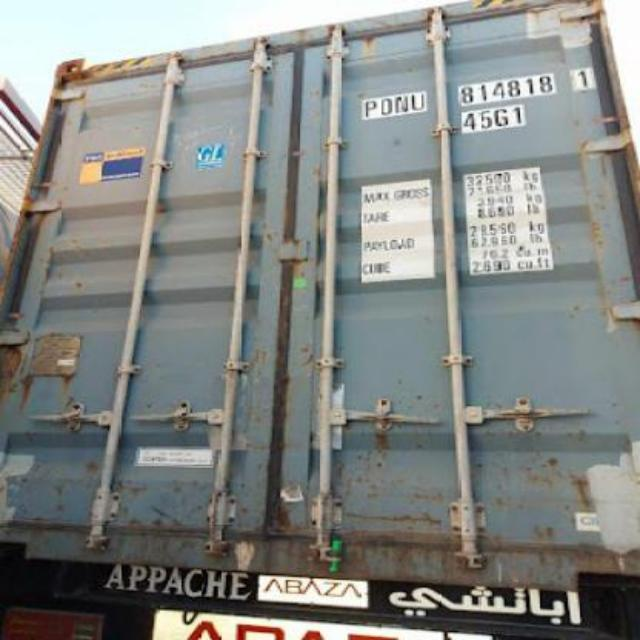1: (570, 62, 596, 92), (474, 75, 490, 108), (522, 69, 536, 99)
4: (488, 75, 506, 107)
8: (538, 69, 556, 101), (460, 85, 476, 112), (506, 80, 522, 102)
N: (392, 90, 410, 120)
O: (378, 89, 390, 121)
P: (360, 94, 376, 124)
U: (404, 84, 432, 120), (408, 89, 428, 118)
